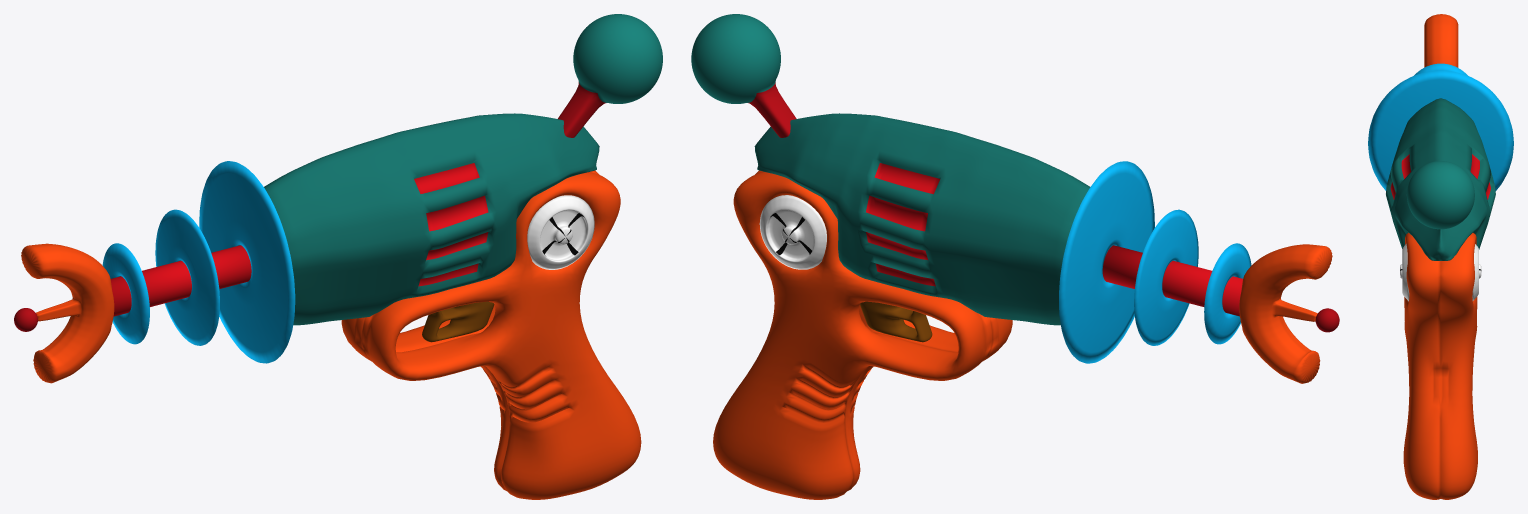
The model's file is Blaster.obj.
The picture shows the model from 3 angles, left to right: view 1: azimuth 30°, elevation 25°; view 2: azimuth 150°, elevation 25°; view 3: azimuth 270°, elevation 25°; orthographic projection. The views are drawn at different scales.
Parts seen in each view (by area): view 1: Plane, Plane.001, Circle.003_Circle.009, Torus, Sphere, Circle, Cylinder, Cube_Cube.001; view 2: Plane, Plane.001, Circle.003_Circle.009, Torus, Sphere, Circle, Cylinder, Cube_Cube.001; view 3: Plane.001, Plane, Circle.003_Circle.009, Sphere, Torus, Circle.
Boxes of the visible parts, box(x1,y1,x2,y2) form: Plane: box(264, 113, 599, 325); Plane.001: box(341, 170, 641, 499); Circle.003_Circle.009: box(102, 161, 295, 363); Torus: box(21, 243, 114, 383); Sphere: box(558, 14, 662, 137); Circle: box(527, 195, 594, 269); Cylinder: box(110, 245, 251, 316); Cube_Cube.001: box(422, 301, 494, 342); Plane: box(754, 113, 1090, 325); Plane.001: box(713, 170, 1012, 499); Circle.003_Circle.009: box(1059, 161, 1251, 363); Torus: box(1239, 244, 1332, 383); Sphere: box(691, 14, 796, 137); Circle: box(759, 195, 826, 269); Cylinder: box(1102, 245, 1242, 316); Cube_Cube.001: box(860, 301, 932, 342); Plane.001: box(1403, 232, 1477, 499); Plane: box(1386, 98, 1495, 260); Circle.003_Circle.009: box(1368, 63, 1513, 190); Sphere: box(1406, 161, 1474, 229); Torus: box(1424, 14, 1458, 67); Circle: box(1400, 243, 1481, 301).
Size of the model in its own units: 8.16 by 5.54 by 2.12.
